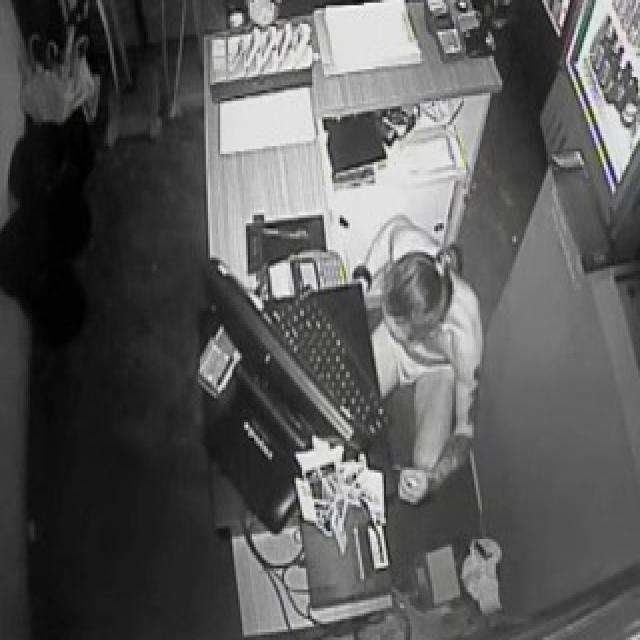thief: (366, 222, 476, 420)
